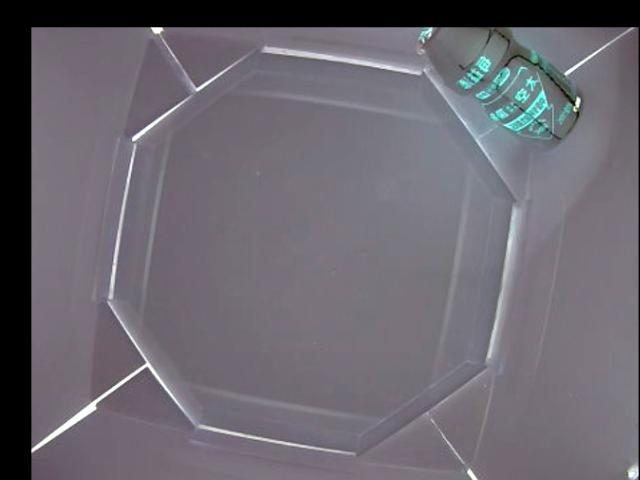Bottle: (413, 28, 587, 145)
